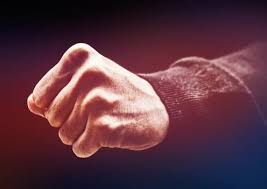fist: (38, 52, 156, 153)
